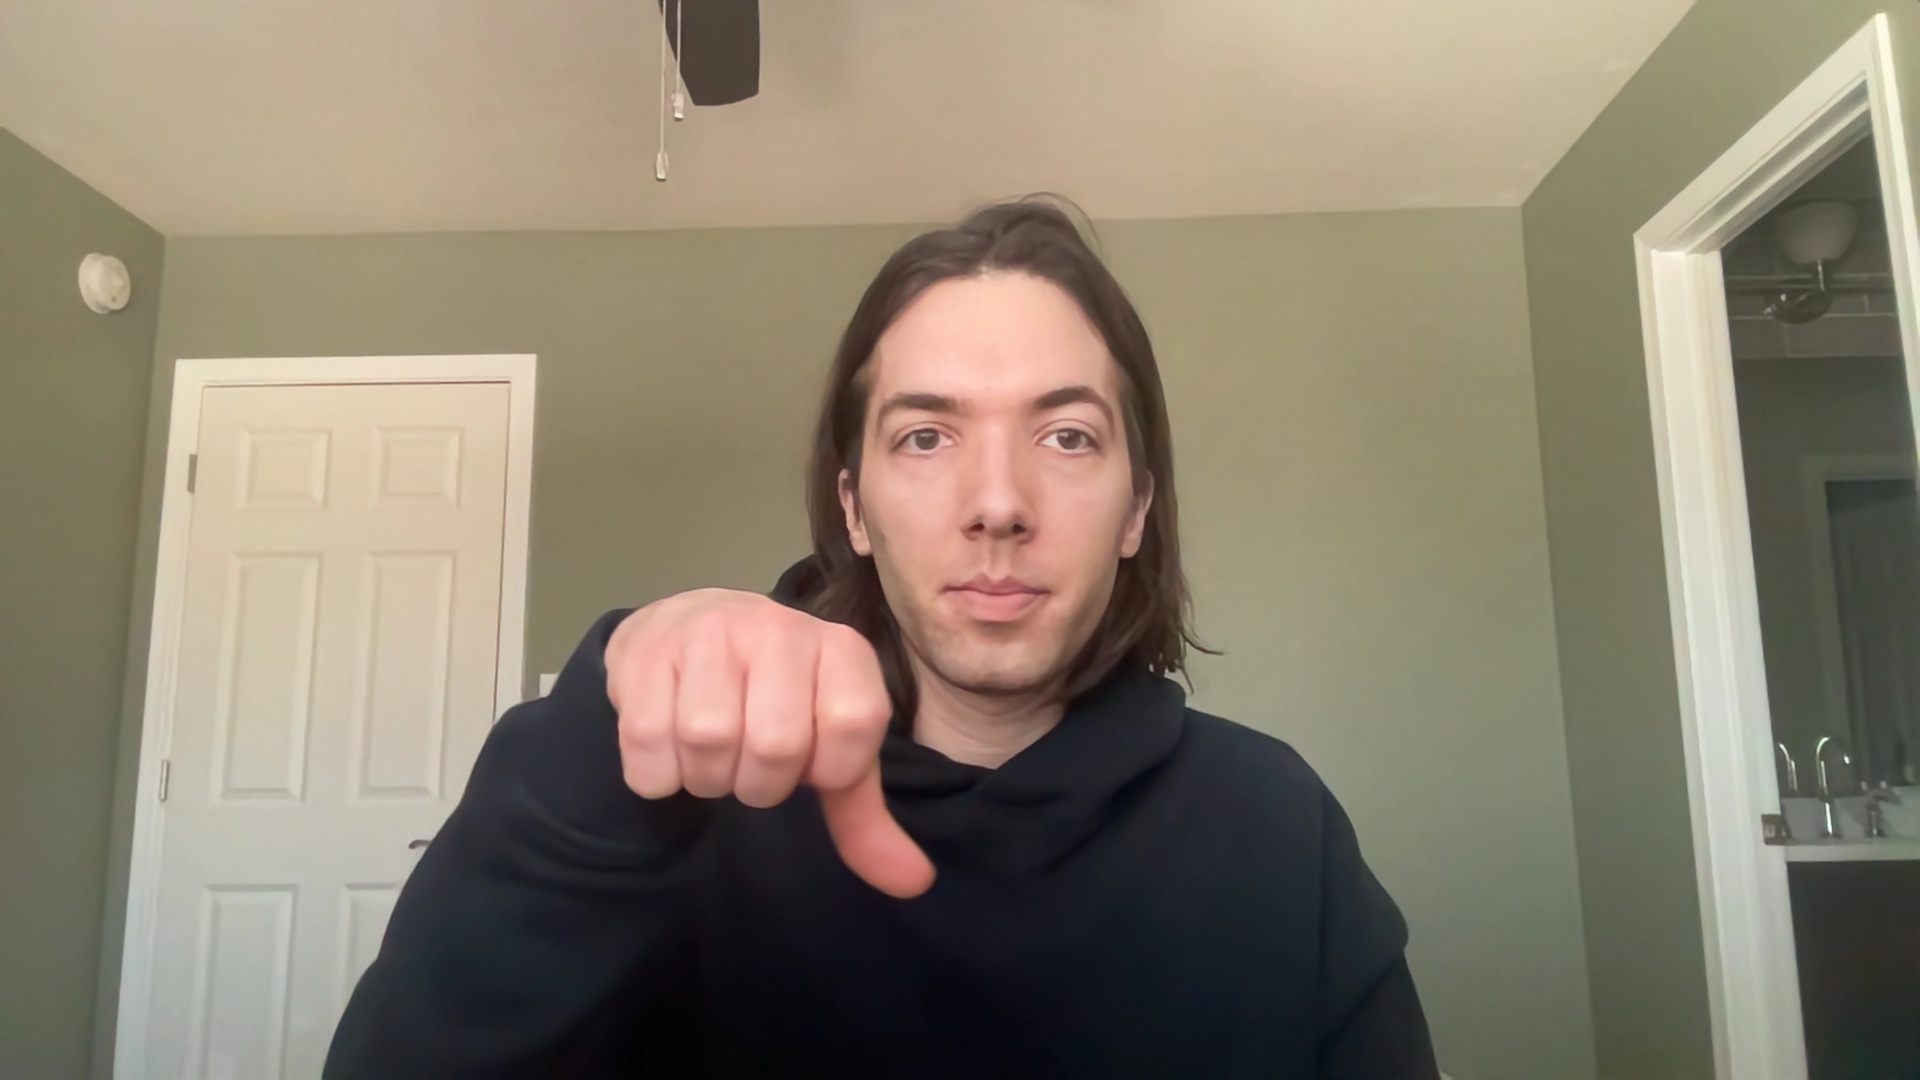Yes: (559, 568, 978, 940)
